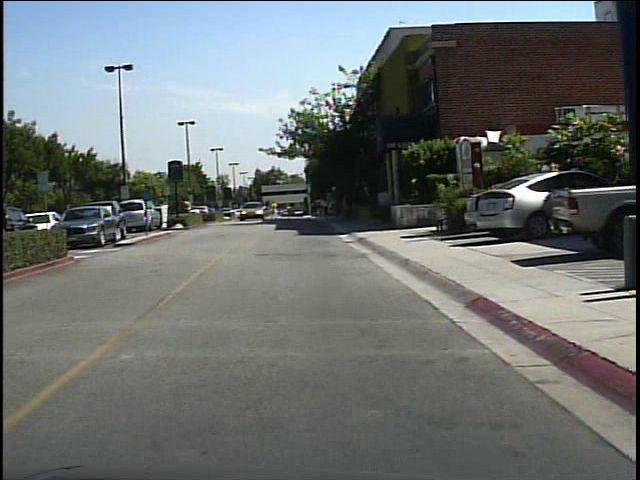person: (154, 194, 170, 229), (269, 196, 282, 223)
